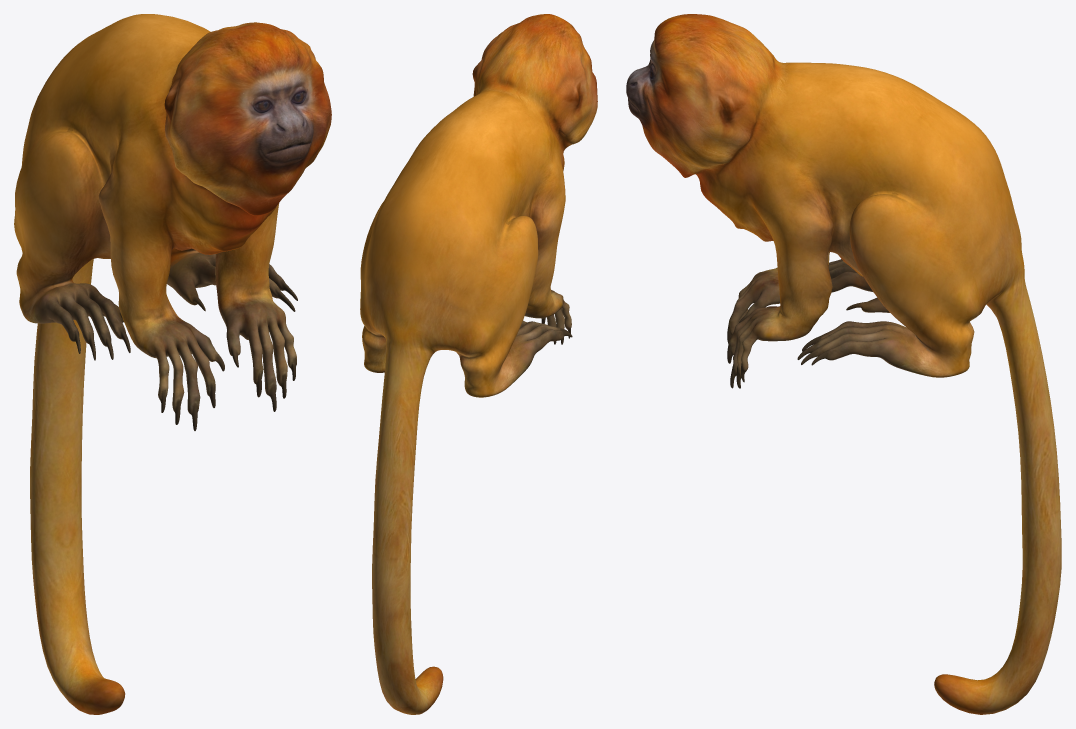
The model's file is tamarin.gltf.
3 renders of one model, left to right at view 1: azimuth 30°, elevation 25°; view 2: azimuth 150°, elevation 25°; view 3: azimuth 270°, elevation 25°, orthographic. The views are drawn at different scales.
Parts seen in each view (by area): view 1: 13564_Golden_Lion_Tamarin_v1_L2; view 2: 13564_Golden_Lion_Tamarin_v1_L2; view 3: 13564_Golden_Lion_Tamarin_v1_L2.
Part boxes in pixels (x1,y1,x2,y2): 13564_Golden_Lion_Tamarin_v1_L2: [14, 14, 331, 714]; 13564_Golden_Lion_Tamarin_v1_L2: [360, 14, 597, 714]; 13564_Golden_Lion_Tamarin_v1_L2: [626, 14, 1061, 714].
Bounding box in the file's own units: 13.49 × 47.24 × 26.91.
Materials: 1 (1 with a texture image).
